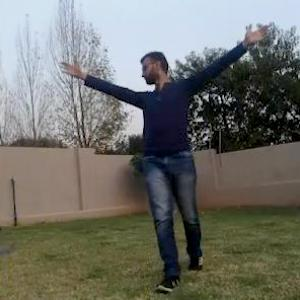takeoff: (41, 0, 242, 299)
